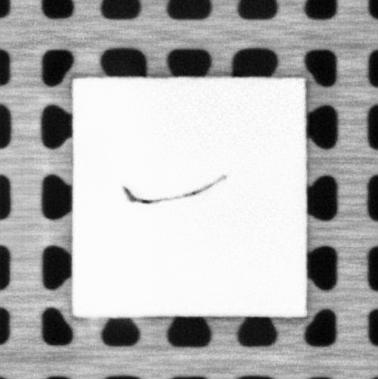DIE_INK: (123, 174, 228, 205)
